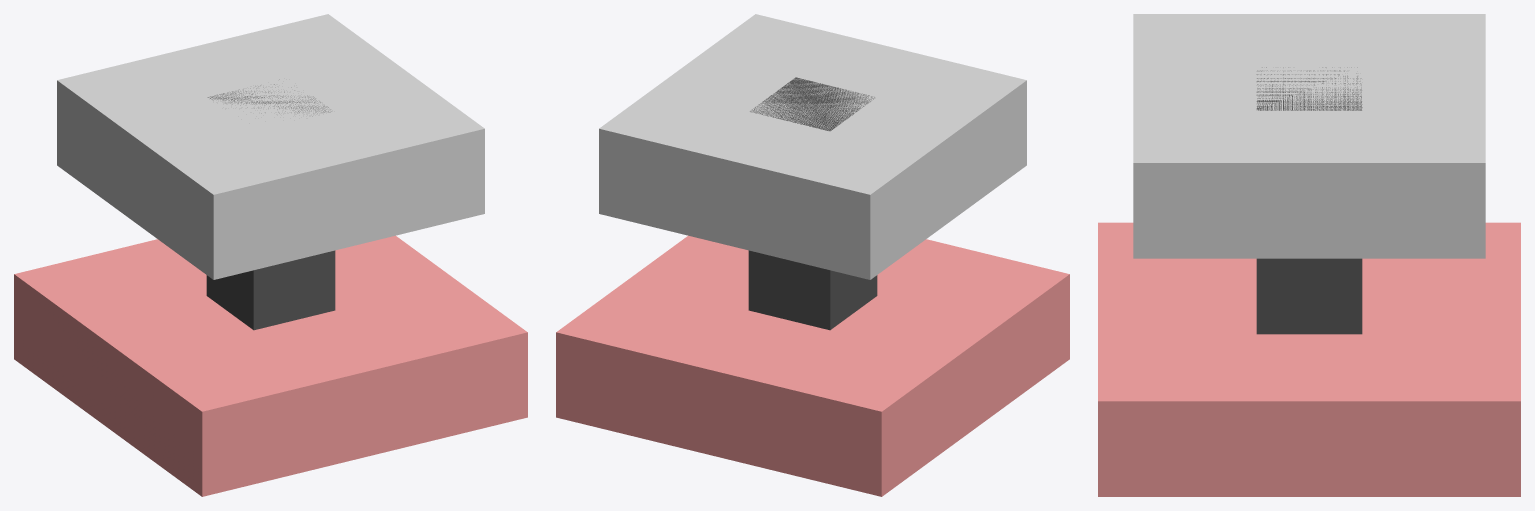
File: board.glb
3 views of the same model, side by side, from view 1: azimuth 30°, elevation 25°; view 2: azimuth 150°, elevation 25°; view 3: azimuth 270°, elevation 25° (orthographic). The views are drawn at different scales.
Visible parts, largest first — view 1: Copper_Net1_Contour0 (×3); view 2: Copper_Net1_Contour0 (×3); view 3: Copper_Net1_Contour0 (×3).
Part boxes in pixels (x1,y1,x2,y2): Copper_Net1_Contour0 (×3): (14,14,527,496); Copper_Net1_Contour0 (×3): (556,14,1069,496); Copper_Net1_Contour0 (×3): (1098,14,1520,496).
Size of what is drawn, in the model's own units: 1.2e-06 by 1e-06 by 1.2e-06.
